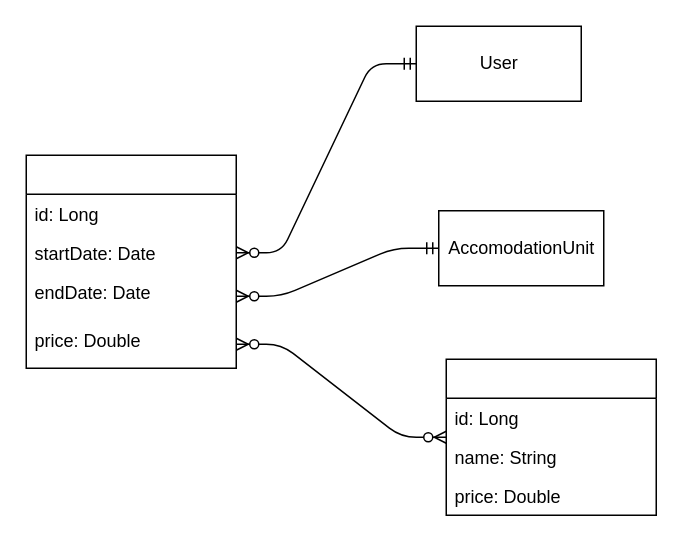
Image size: 683x546. Some labels were removed from this diagram. The box of each missing label's shape, as (x1, y1, x2, y2) in pixels:
Reservation: (25, 154, 236, 368)
Service: (445, 358, 656, 515)
